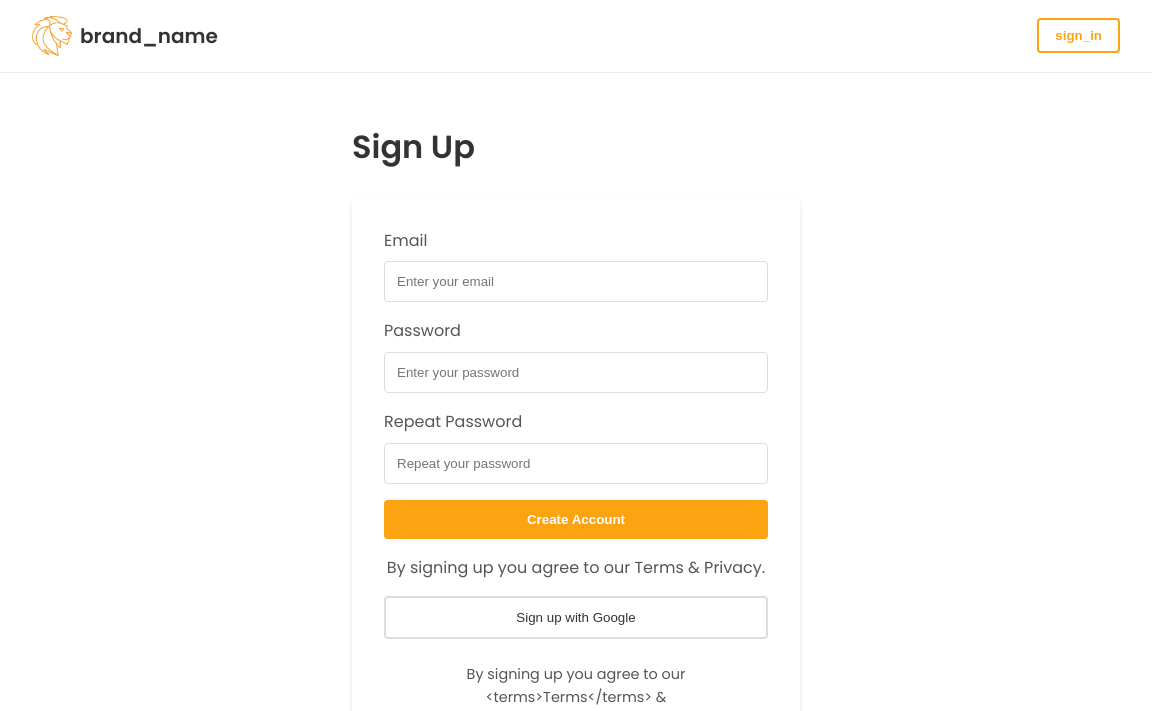
Test: <SignUpPage /> › shows error for invalid email
This screenshot has width=1152, height=711.
Type "foo" into the field labelled "Email".
click(576, 282); type("foo")  # box [384,262,768,302]
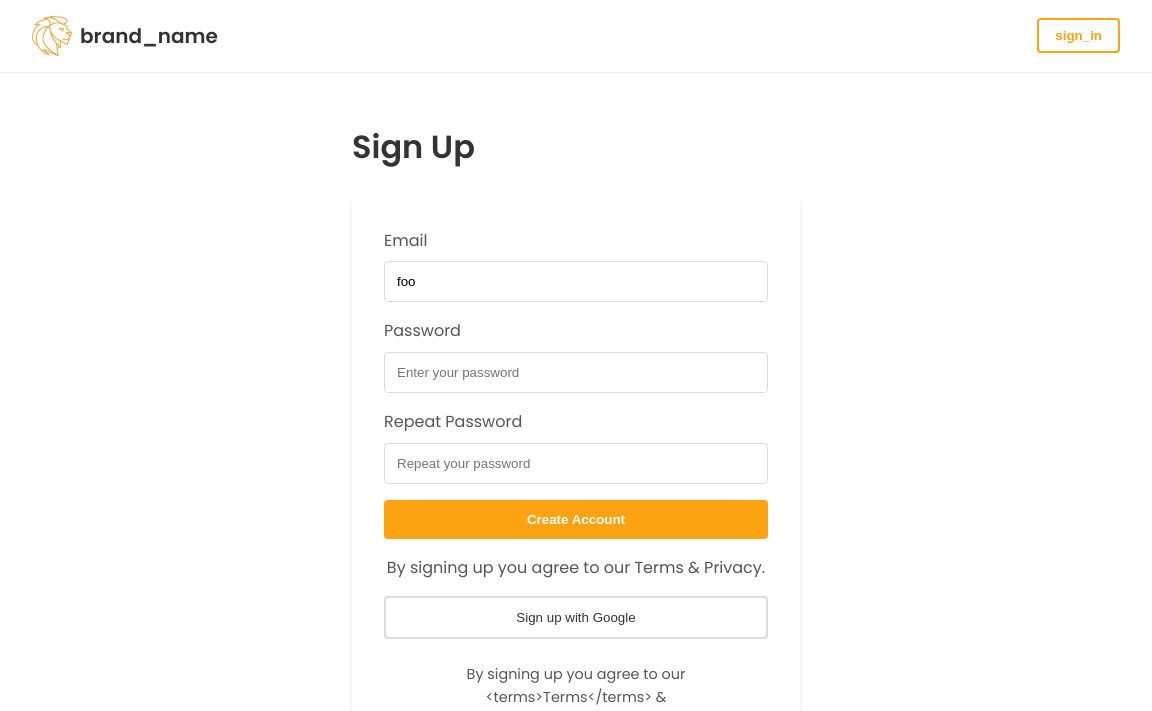
Type "abcdefgh" into the password field labelled "Password".
click(576, 373); type("abcdefgh")  # box [384,352,768,393]
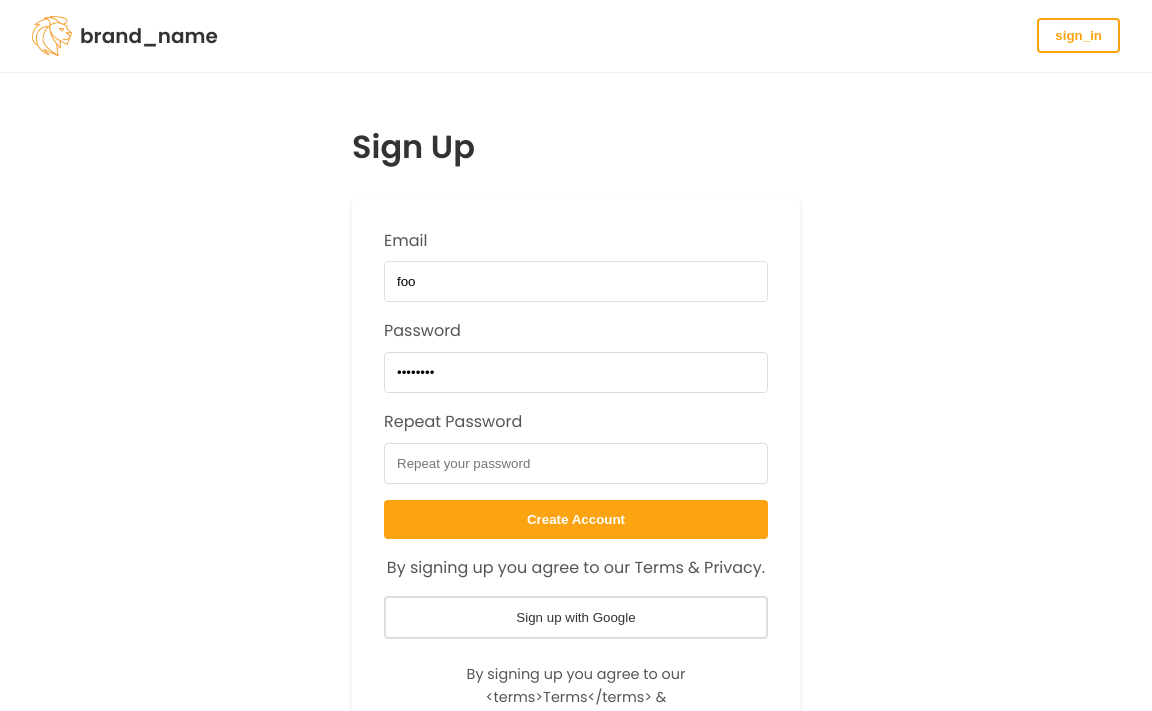
Type "abcdefgh" into the password field labelled "Repeat Password".
click(576, 463); type("abcdefgh")  # box [384,443,768,484]
(page scrolled)
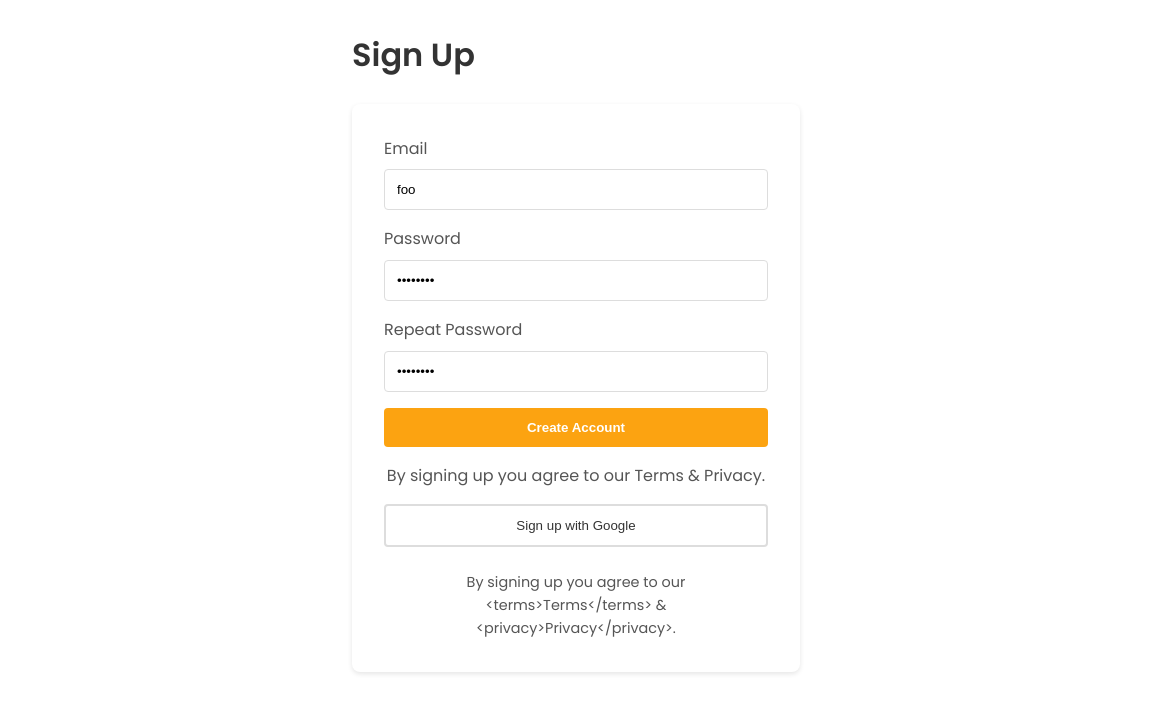
Submit the form with test id "signup-form", box [352,104,800,672]
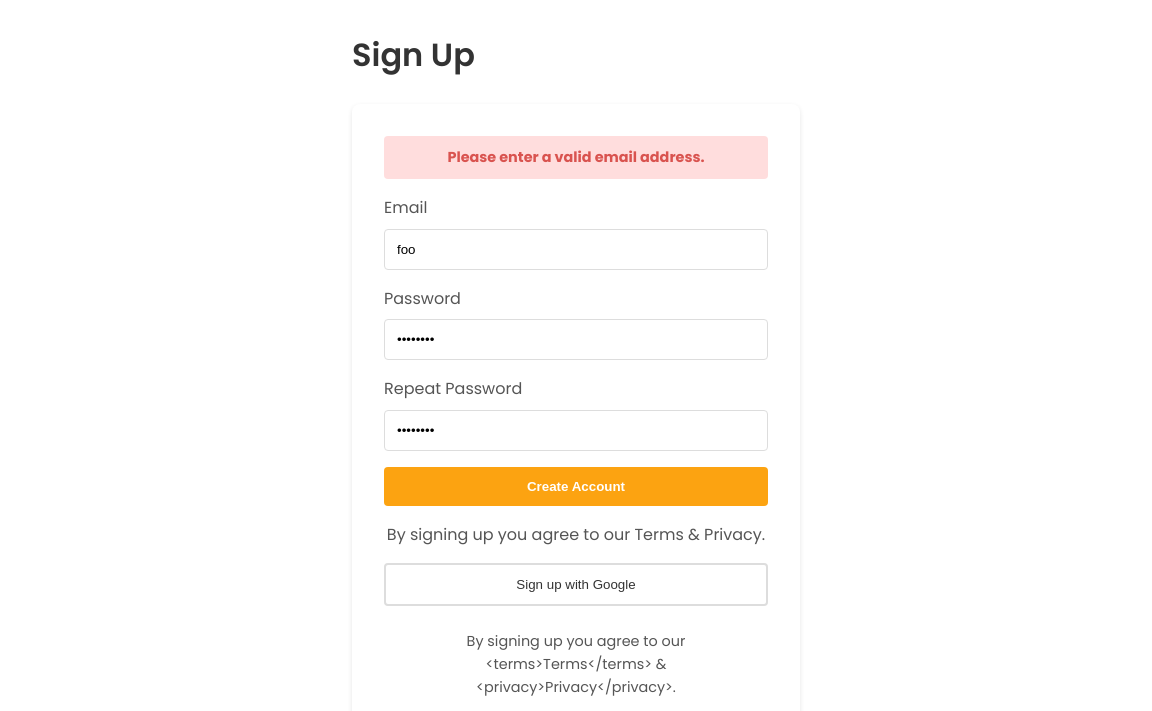
expect the message reads "Please enter a valid email address.": met, box [448,147,705,167]
